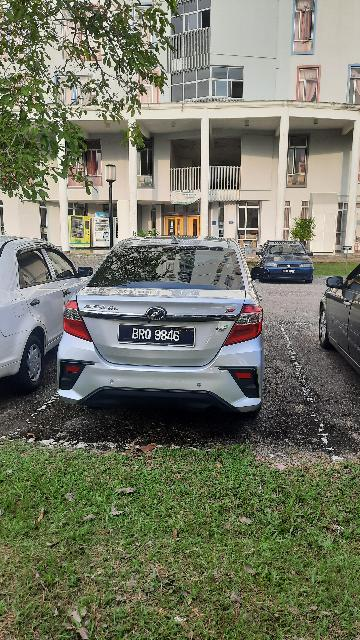License_Plate: (118, 323, 199, 348)
car: (55, 239, 268, 422), (1, 232, 95, 392), (314, 258, 360, 384), (255, 232, 319, 288)
